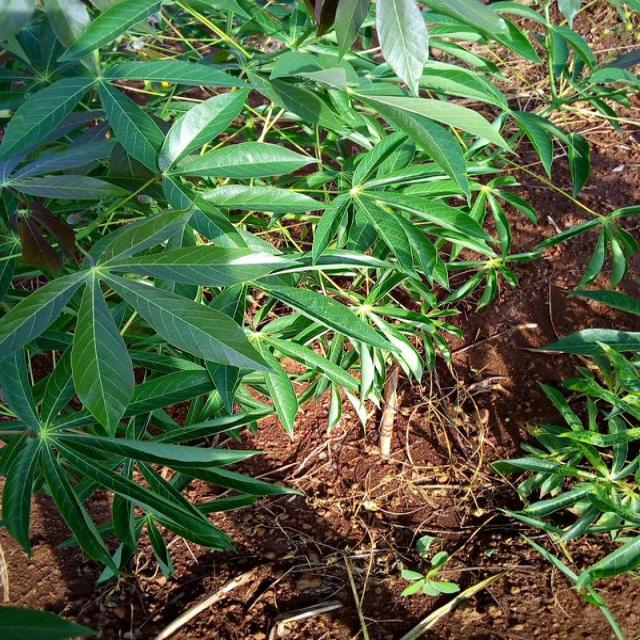cassava leaf: (1, 0, 636, 585), (70, 270, 135, 437)
